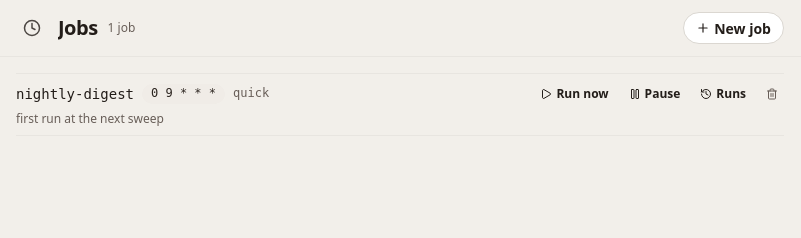
Test: running a job now › says who may run it when the harness refuses a non-writer
Click the button with aria-label "Run nightly-digest now" at (575, 94), box [534,82,615,106]
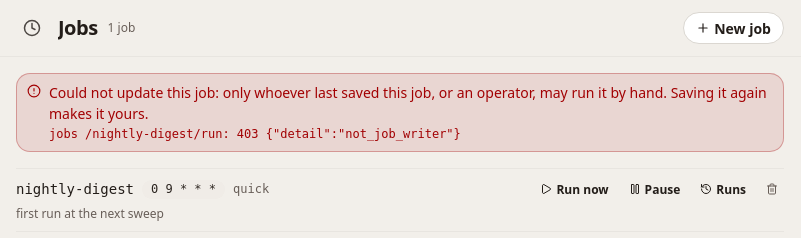
Result: the text "only whoever last saved this job" is shown at [49,83,767,123]
